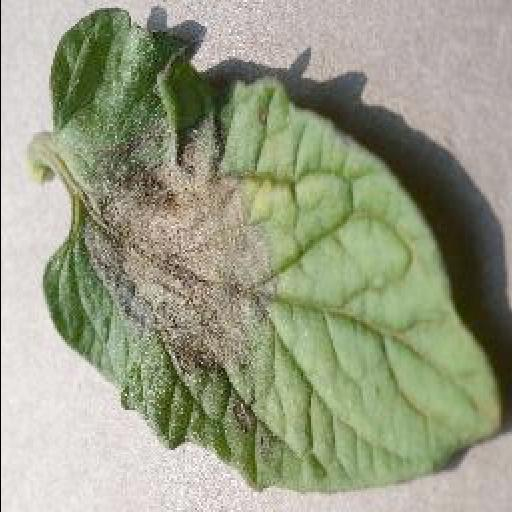disease_tomato: (38, 9, 502, 495)
